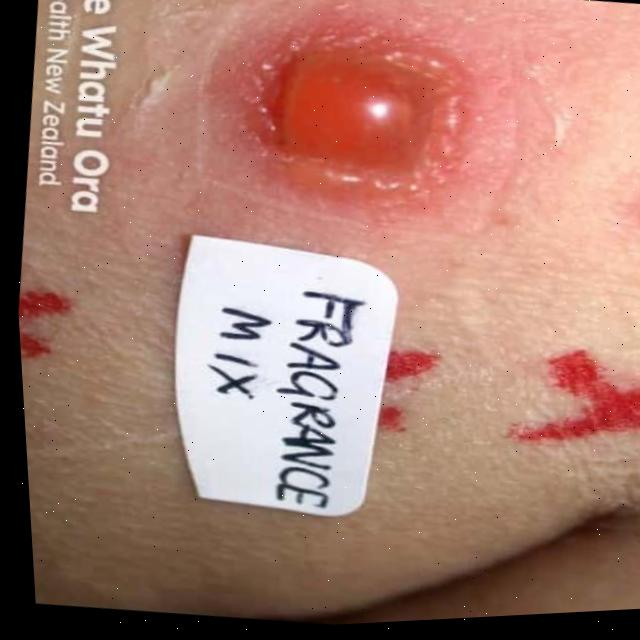Eczema: (226, 0, 489, 219)
